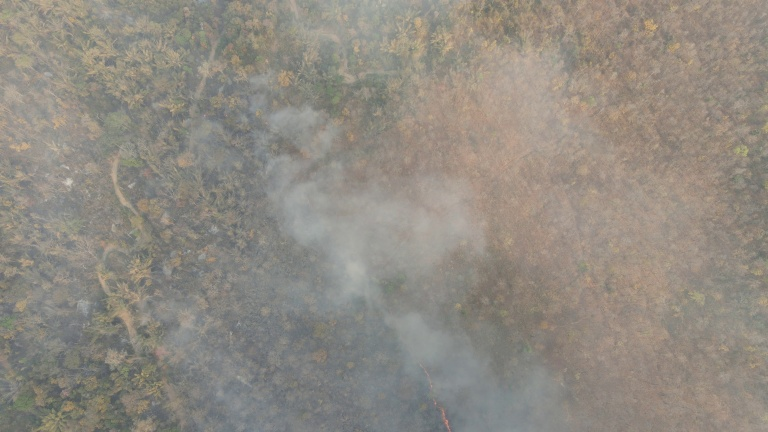fire: (418, 357, 459, 432)
smoke: (272, 139, 472, 334), (395, 320, 559, 427)
